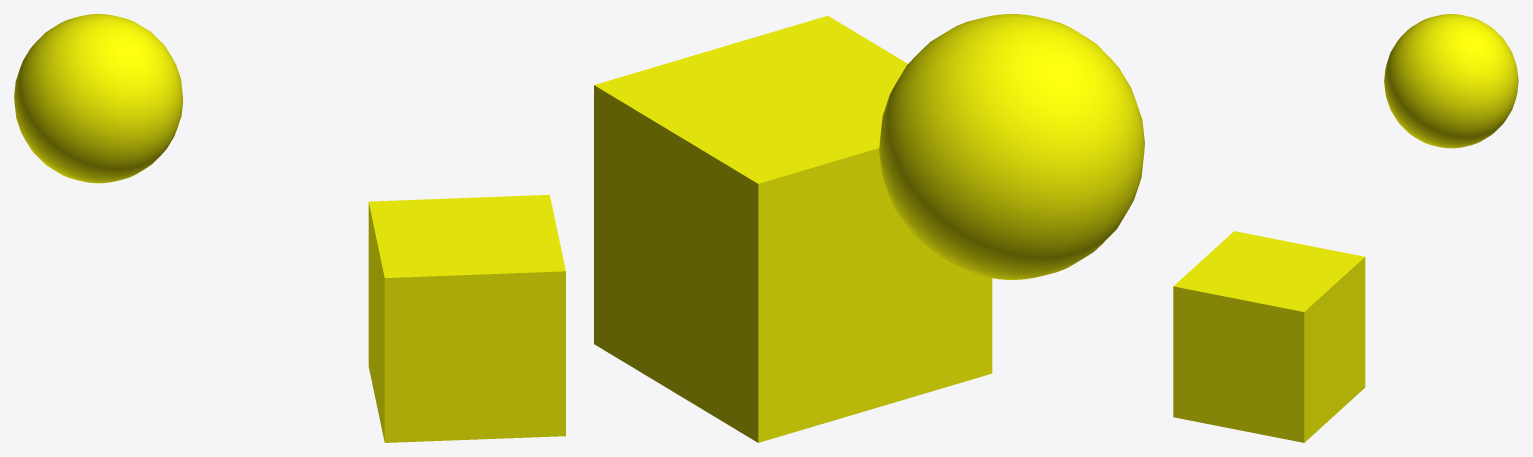
The picture shows the model from 3 angles, left to right: view 1: azimuth 30°, elevation 25°; view 2: azimuth 150°, elevation 25°; view 3: azimuth 270°, elevation 25°; orthographic projection. The views are drawn at different scales.
Parts seen in each view (by area): view 1: Cube, Sphere; view 2: Cube, Sphere; view 3: Cube, Sphere.
Boxes of the visible parts, x1,y1,x2,y2 form: Cube: (368, 194, 565, 442); Sphere: (14, 14, 183, 183); Cube: (594, 15, 992, 442); Sphere: (879, 14, 1144, 279); Cube: (1173, 231, 1365, 442); Sphere: (1384, 14, 1518, 148).
Size of what is drawn, in the model's own units: 3.43 by 2.71 by 2.99.
